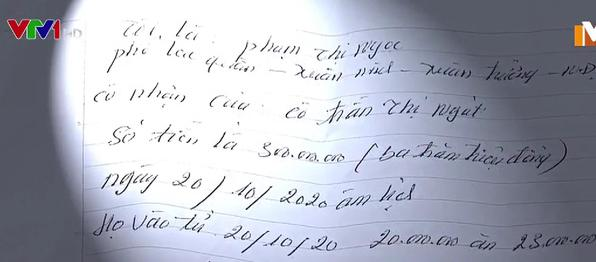text: (104, 118, 570, 176), (90, 207, 596, 260), (104, 40, 596, 85), (89, 82, 489, 127), (100, 162, 418, 211), (120, 17, 405, 65), (5, 16, 62, 44), (580, 19, 596, 46)
